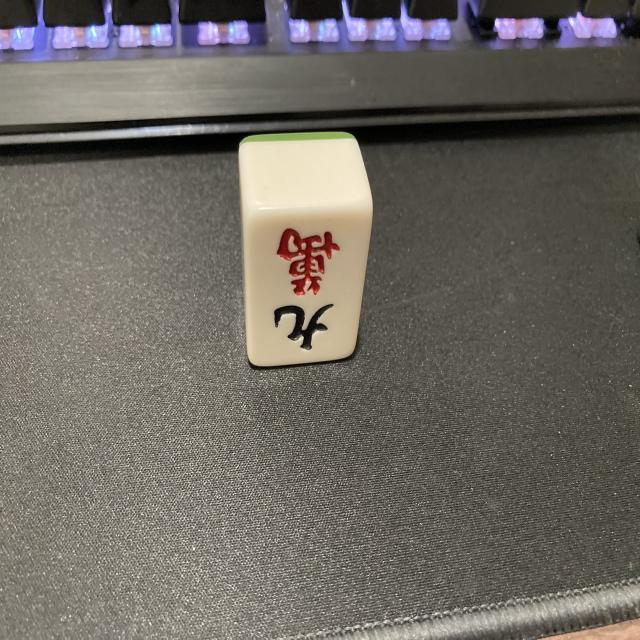m9: (246, 215, 366, 358)
